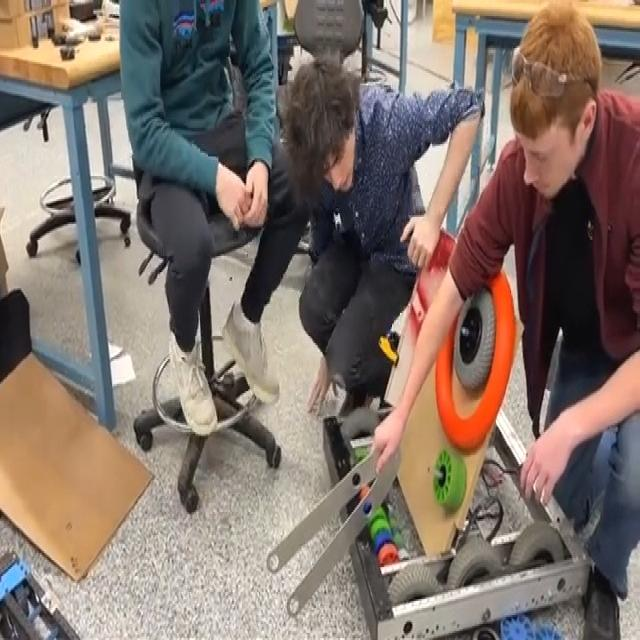note: (435, 260, 519, 457)
